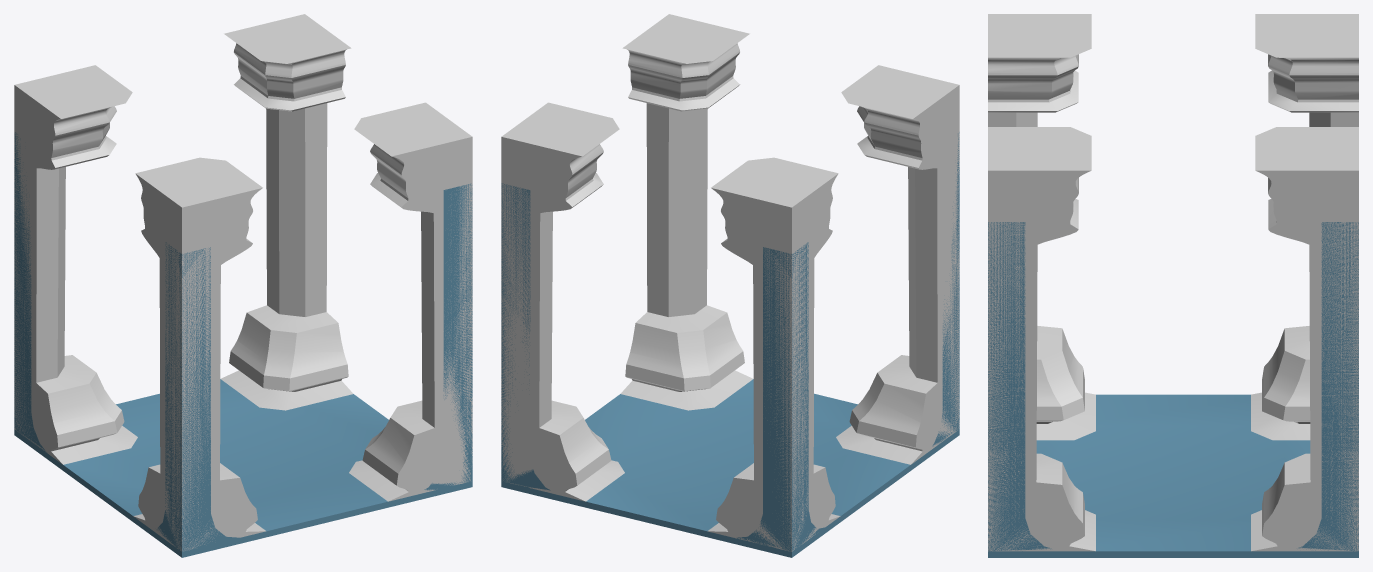
File: Tileset_Piece_85.fbx
3 views of the same model, side by side, from view 1: azimuth 30°, elevation 25°; view 2: azimuth 150°, elevation 25°; view 3: azimuth 270°, elevation 25° (orthographic). The views are drawn at different scales.
Visible parts, largest first — view 1: Tileset_Piece_85; view 2: Tileset_Piece_85; view 3: Tileset_Piece_85.
Part boxes in pixels (box(x1,y1,x2,y2)): Tileset_Piece_85: box(14, 14, 472, 557); Tileset_Piece_85: box(501, 14, 959, 557); Tileset_Piece_85: box(988, 14, 1358, 557).
Bounding box in the file's own units: 100 × 115 × 100.
